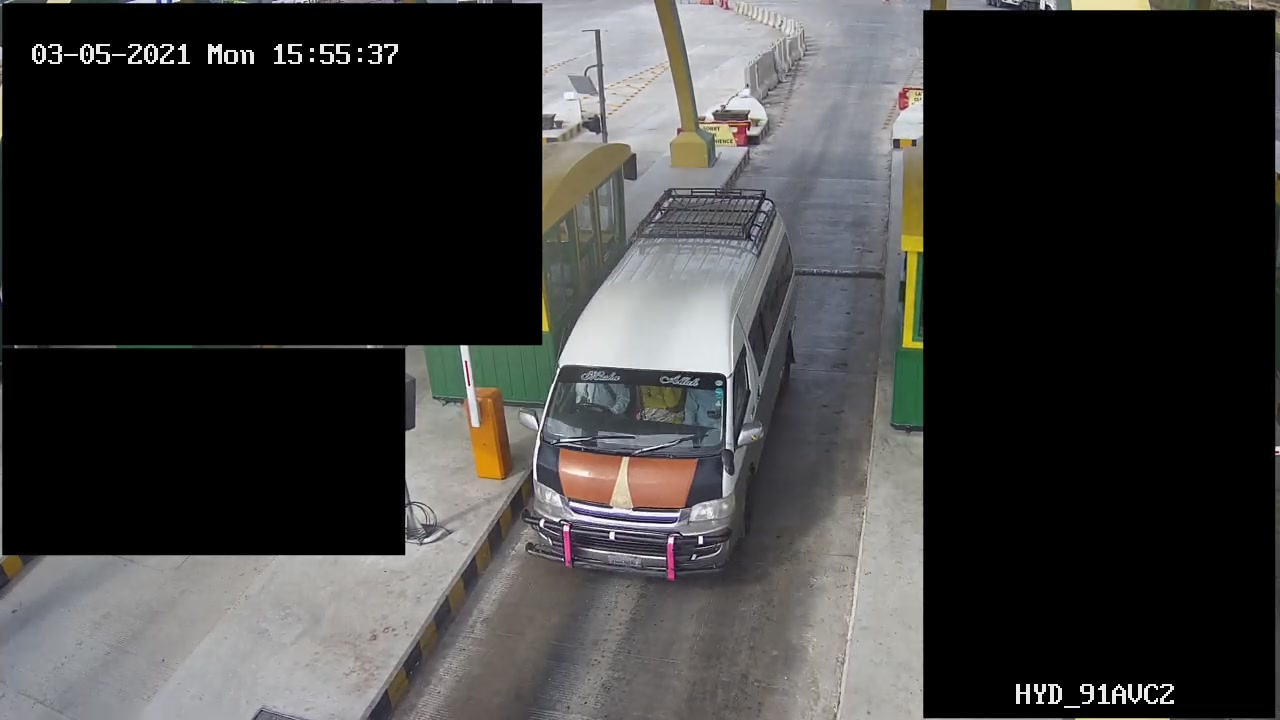F2: (523, 181, 818, 577)
